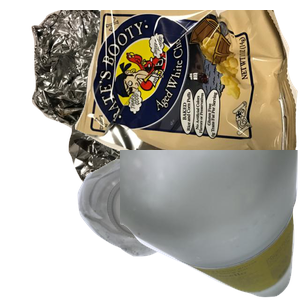glass: (120, 150, 300, 300)
metal: (29, 10, 269, 190)
plastic: (75, 154, 248, 300)
trash: (75, 10, 300, 190)
